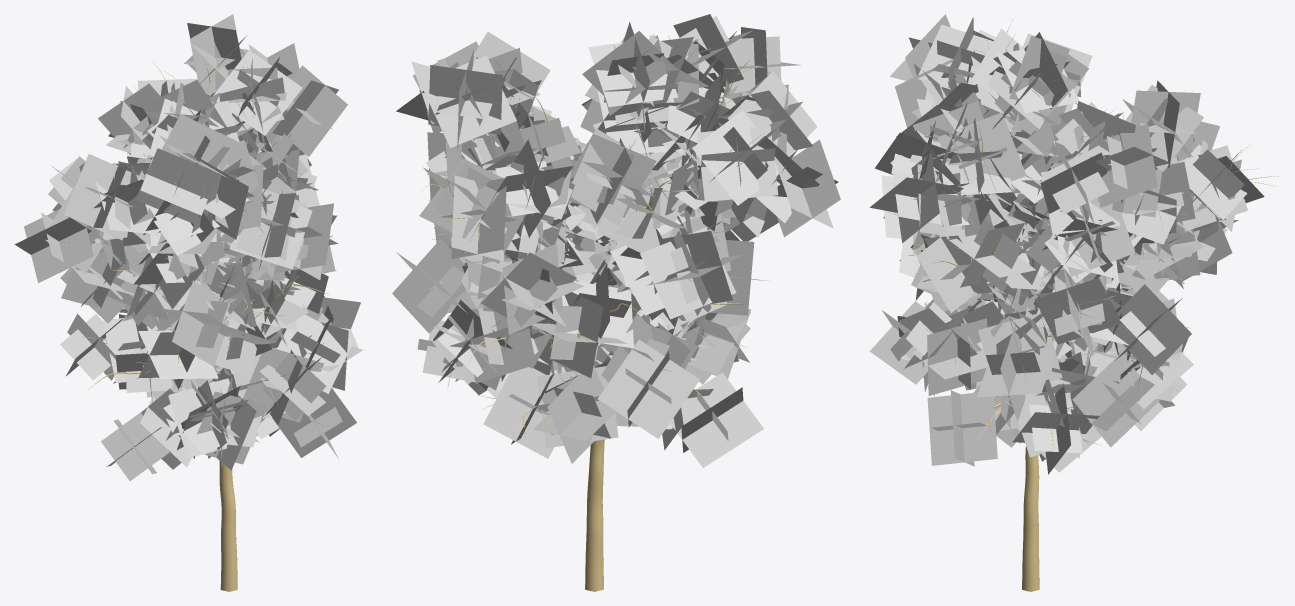
File: tree 1.fbx
The picture shows the model from 3 angles, left to right: view 1: azimuth 30°, elevation 25°; view 2: azimuth 150°, elevation 25°; view 3: azimuth 270°, elevation 25°; orthographic projection. The views are drawn at different scales.
Parts seen in each view (by area): view 1: tree 1; view 2: tree 1; view 3: tree 1.
Boxes of the visible parts, x1,y1,x2,y2 form: tree 1: [14, 14, 363, 591]; tree 1: [392, 14, 840, 591]; tree 1: [869, 14, 1278, 591].
Bounding box in the file's own units: 650 × 903 × 628.
